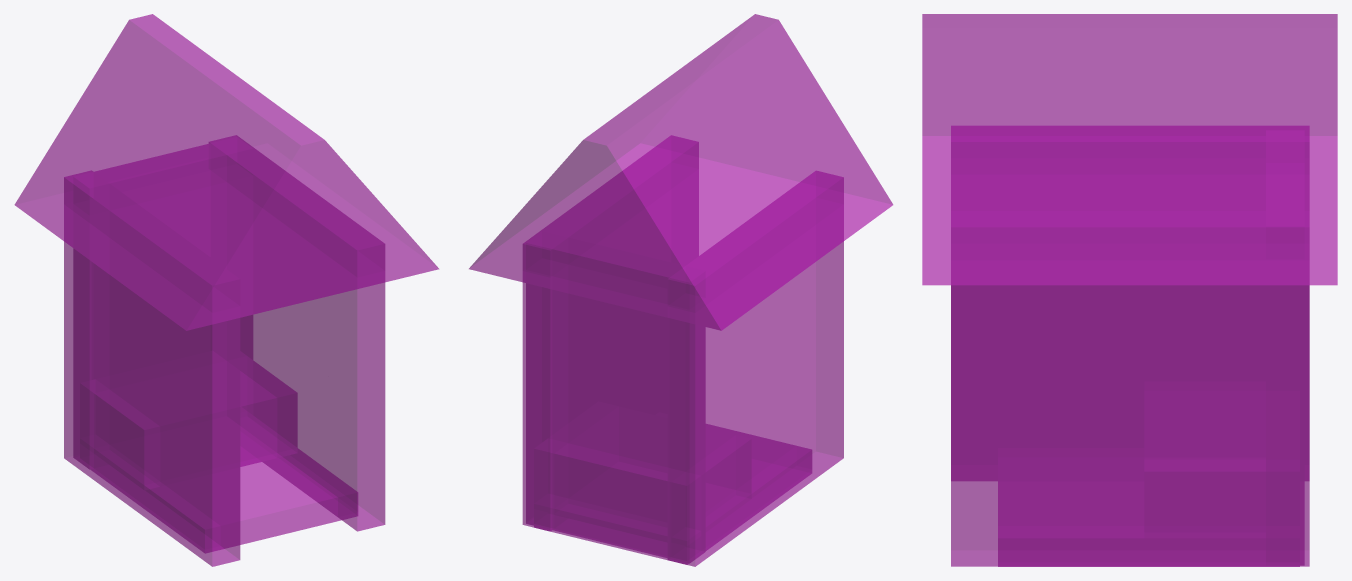
File: SM_Prop_Outhouse_01_Collision.fbx
3 views of the same model, side by side, from view 1: azimuth 30°, elevation 25°; view 2: azimuth 150°, elevation 25°; view 3: azimuth 270°, elevation 25° (orthographic). The views are drawn at different scales.
Visible parts, largest first — view 1: SM_Prop_Outhouse_01_Collision; view 2: SM_Prop_Outhouse_01_Collision; view 3: SM_Prop_Outhouse_01_Collision.
Part boxes in pixels (left/top/right/bottom): SM_Prop_Outhouse_01_Collision: left=14, top=14, right=438, bottom=566; SM_Prop_Outhouse_01_Collision: left=469, top=14, right=892, bottom=566; SM_Prop_Outhouse_01_Collision: left=922, top=14, right=1337, bottom=566.
Bounding box in the file's own units: 212 × 332 × 249.
